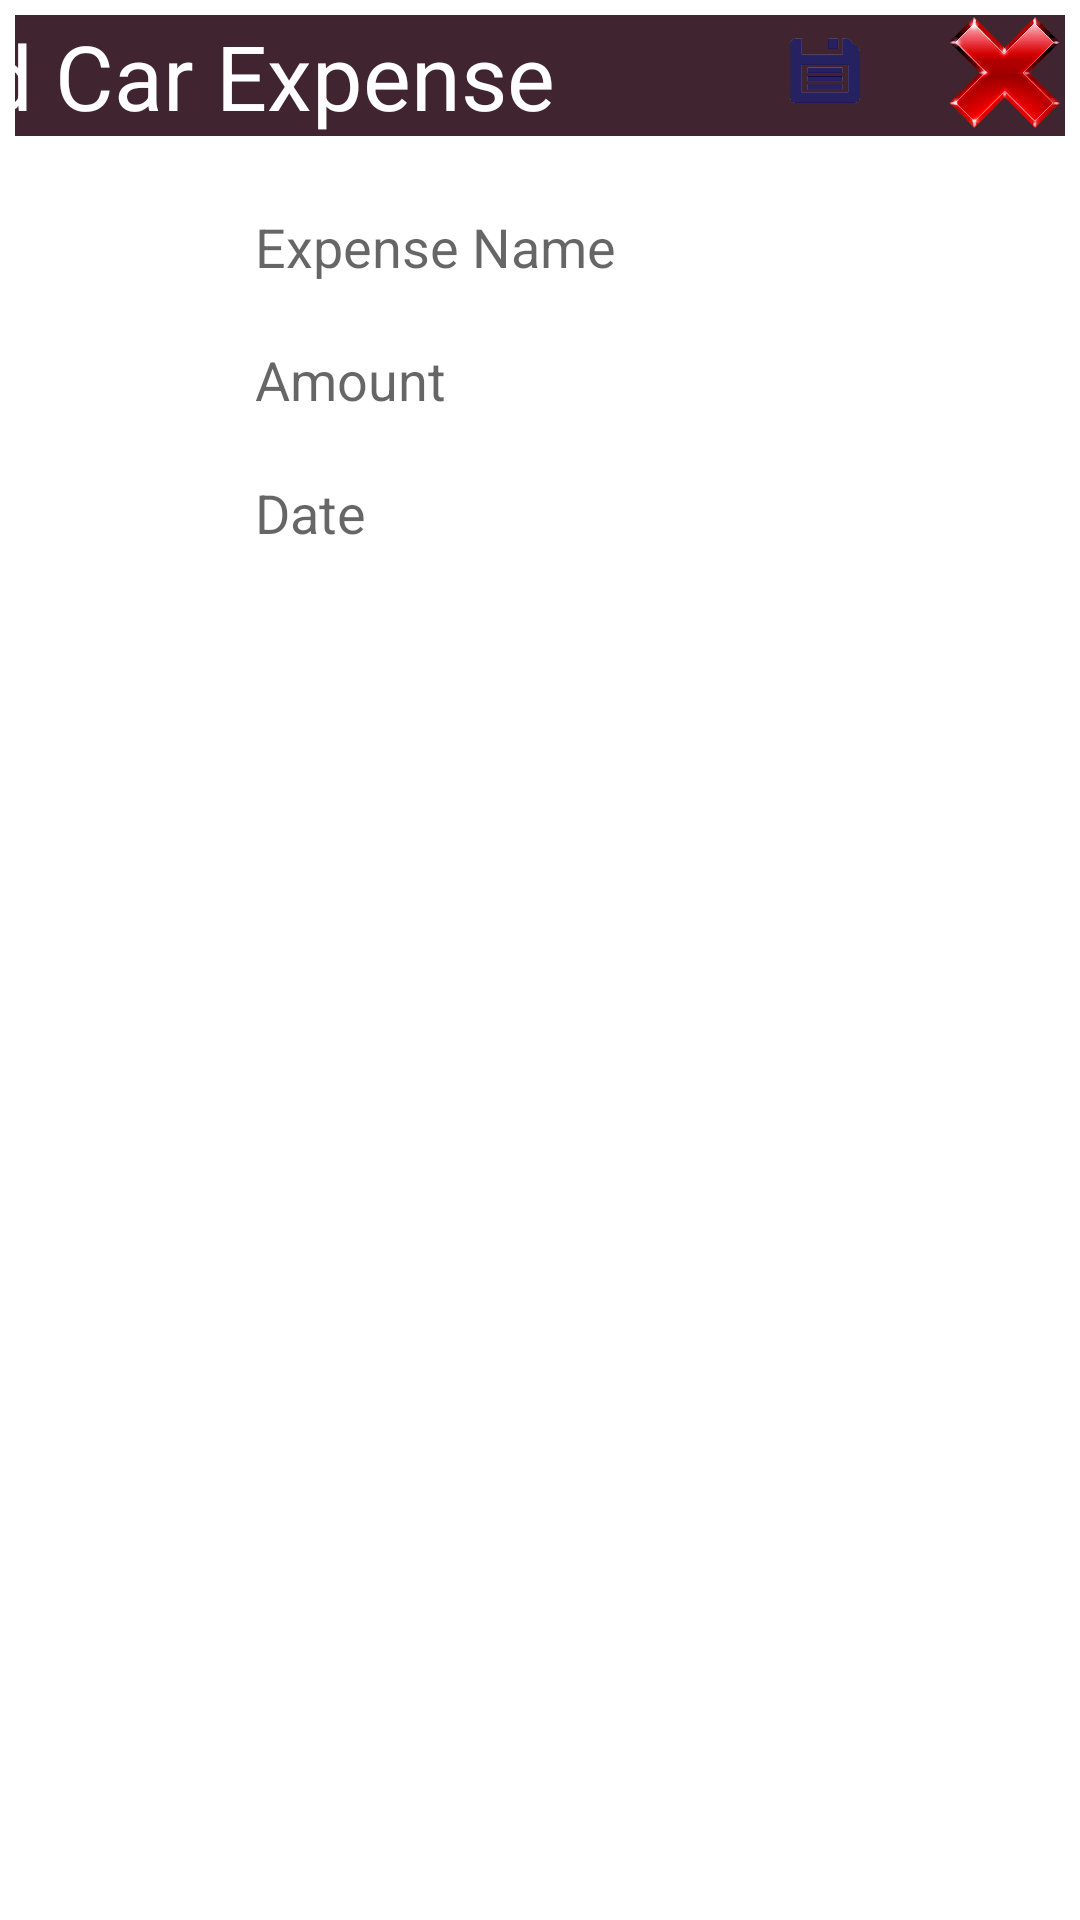

Named icons in this screenshot (1080*1920) and their bounding boxes, [x1, y1, x2, y2]:
cancelicon: [950, 17, 1060, 128]
save: [790, 38, 860, 103]
